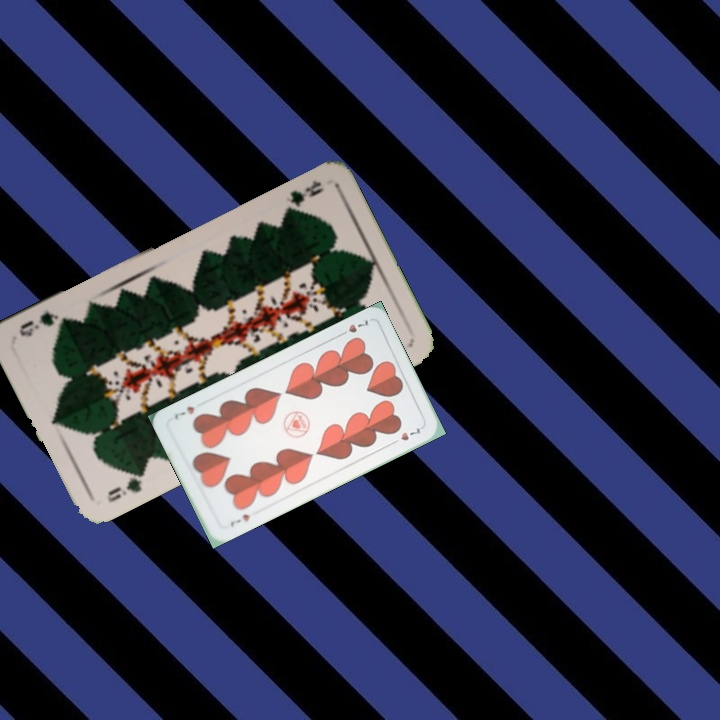G9: (102, 464, 148, 506), (286, 176, 327, 208)
H7: (334, 315, 371, 339), (226, 510, 252, 529)
